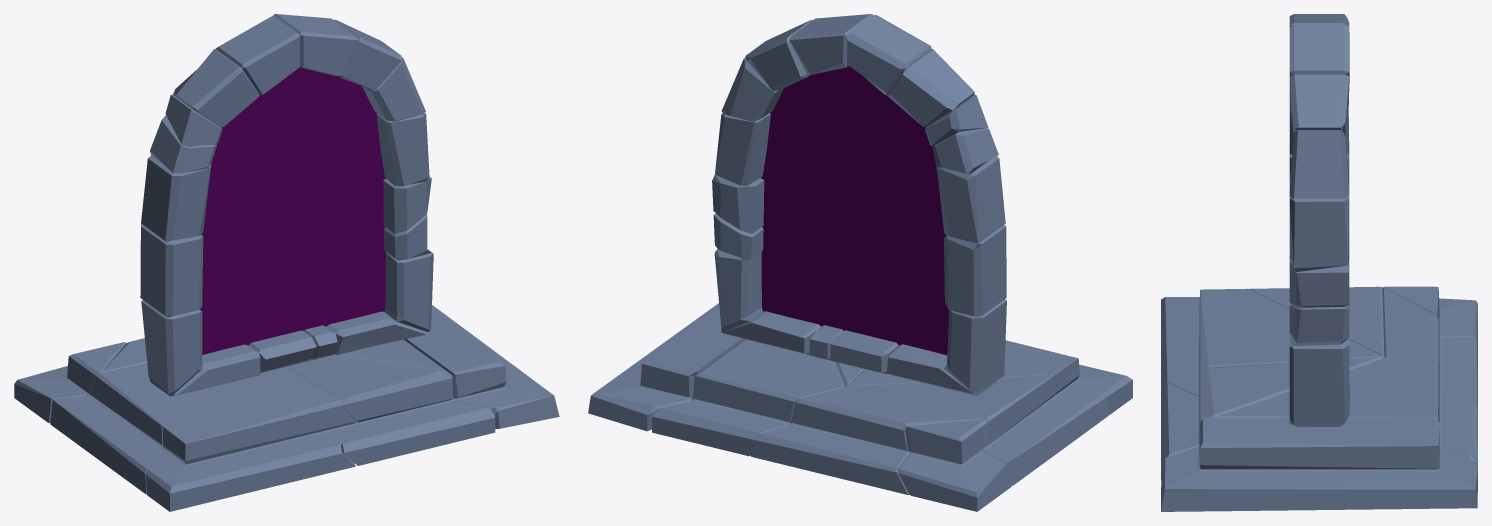
Rendered from Portal Model.fbx.
3 views of the same model, side by side, from view 1: azimuth 30°, elevation 25°; view 2: azimuth 150°, elevation 25°; view 3: azimuth 270°, elevation 25° (orthographic).
Parts seen in each view (by area): view 1: Portal; view 2: Portal; view 3: Portal.
Part boxes in pixels (x1,y1,x2,y2): Portal: (14, 14, 559, 511); Portal: (588, 14, 1132, 511); Portal: (1161, 14, 1477, 511).
Bounding box in the file's own units: 197 × 185 × 136.
